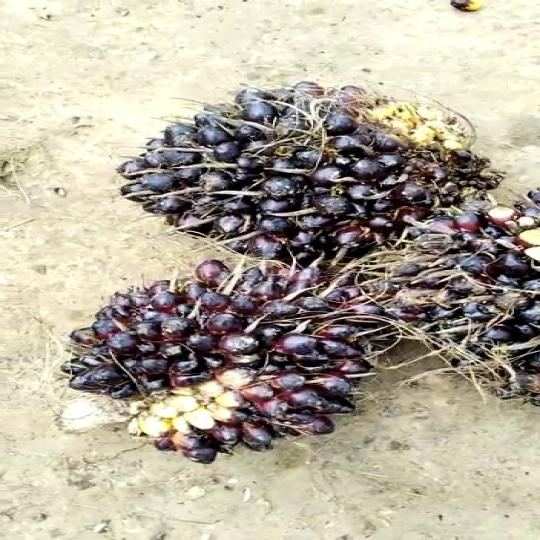mentah: (102, 68, 516, 273), (62, 250, 410, 482), (381, 179, 540, 417)
